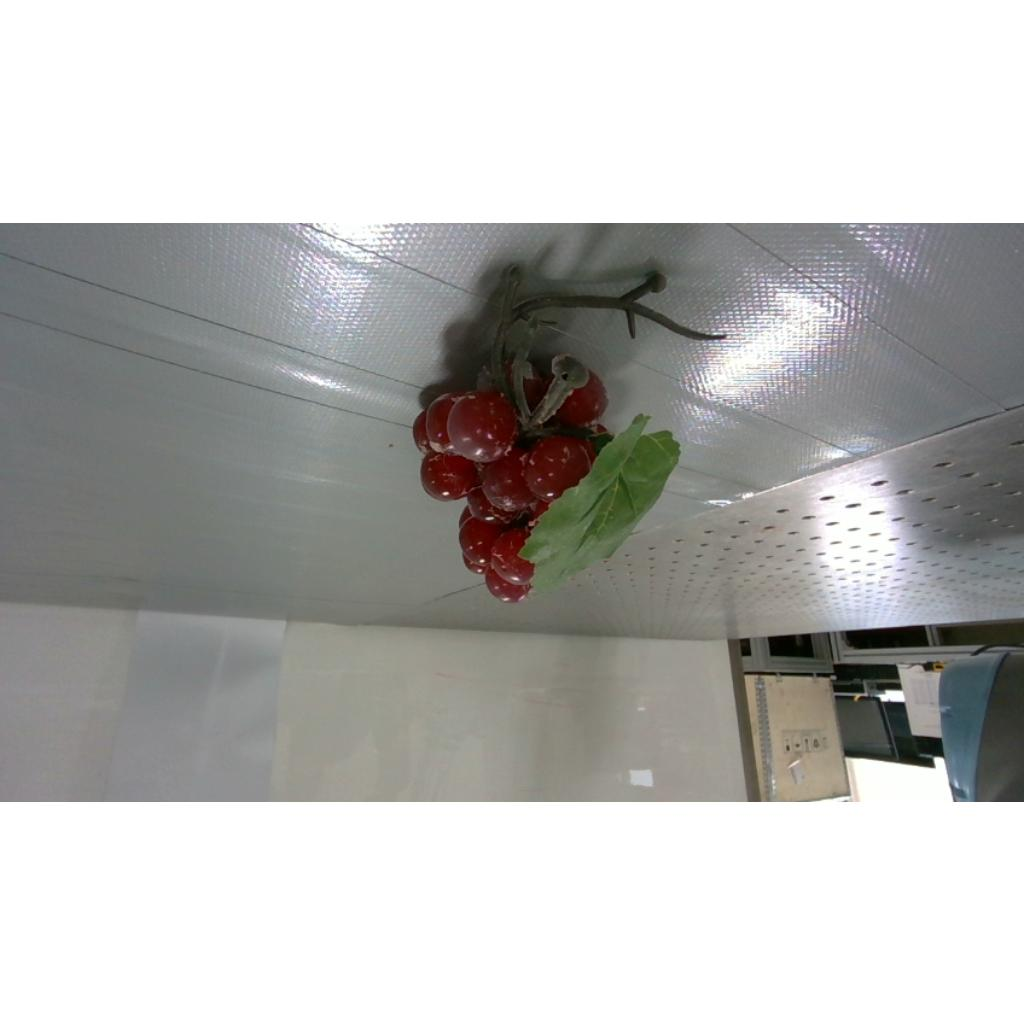grape: (414, 266, 699, 603)
